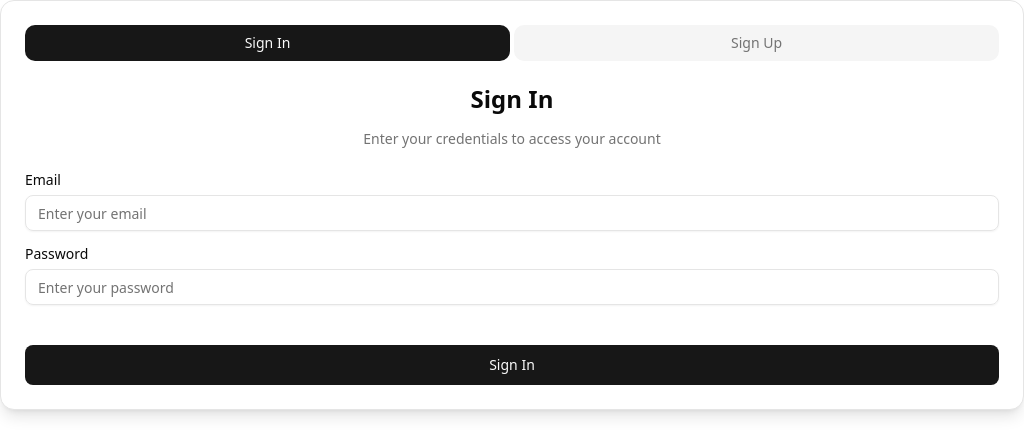
Test: AuthForm › switches to register mode when Sign Up is clicked
What coordinates should you click on to do the following:
click the button "Sign Up"
I would click on:
 (756, 43)
Its box is top-left (514, 25), bottom-right (999, 61).
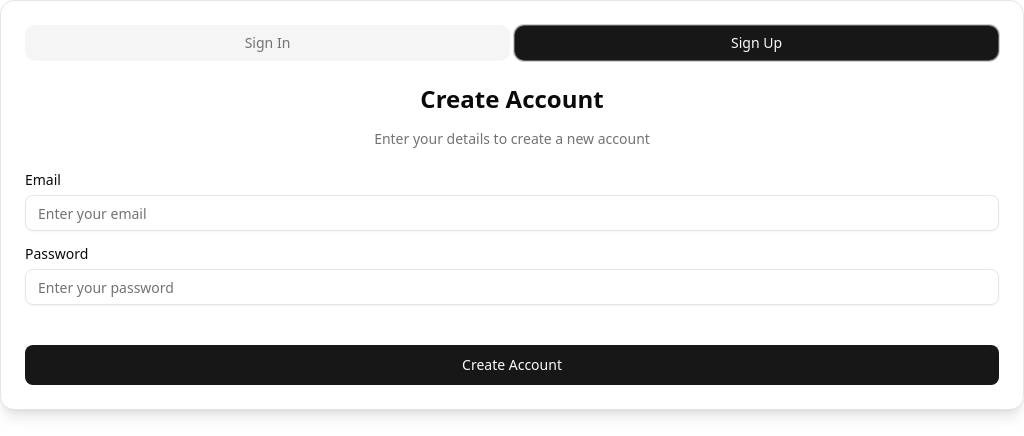
Check: the field labelled "Email" is shown, box top-left (25, 195), bottom-right (999, 231)
Check: the text "Create Account" is shown, box top-left (420, 82), bottom-right (604, 115)
Check: the text "Enter your details to create a new account" is shown, box top-left (374, 129), bottom-right (650, 148)
